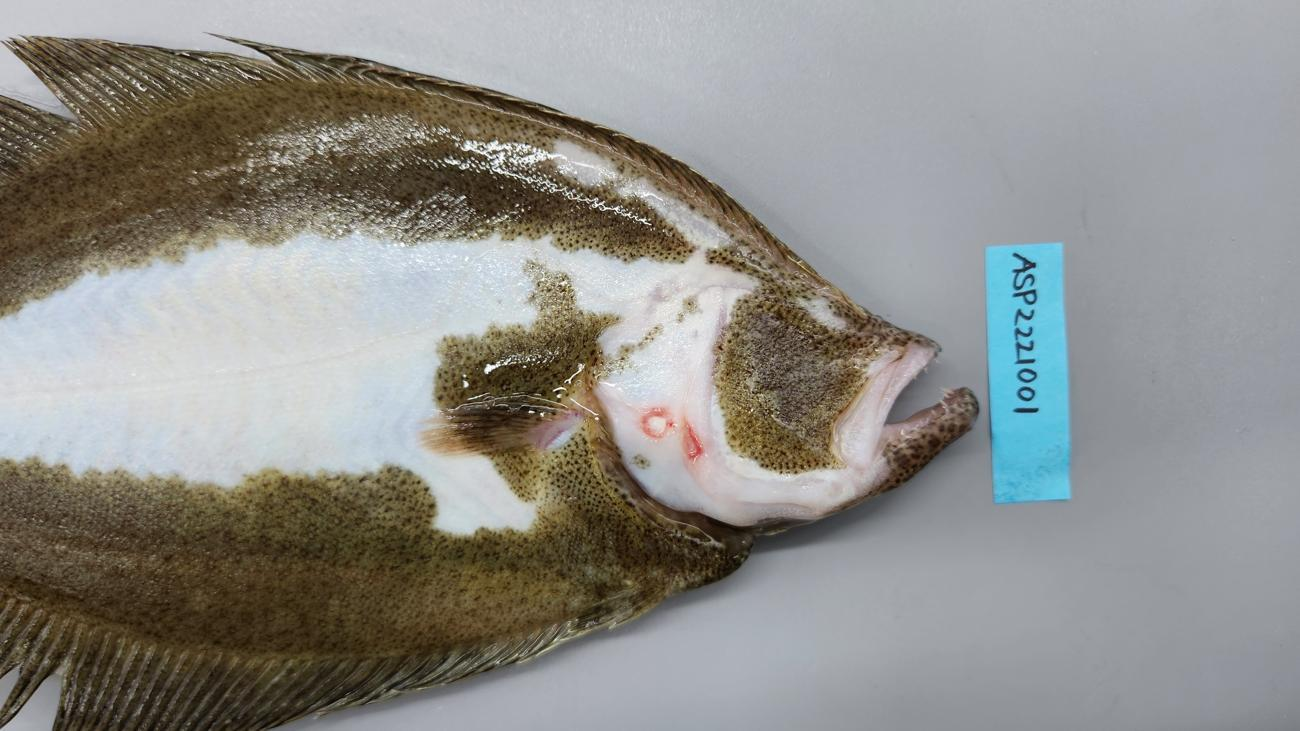SPDYH: (0, 521, 376, 654)
